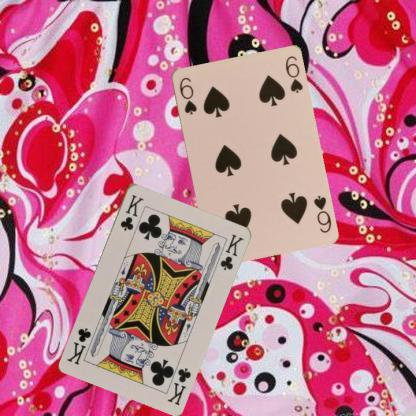6s: (176, 75, 198, 116), (311, 192, 332, 234)
Kc: (164, 365, 192, 406), (117, 192, 145, 232)
